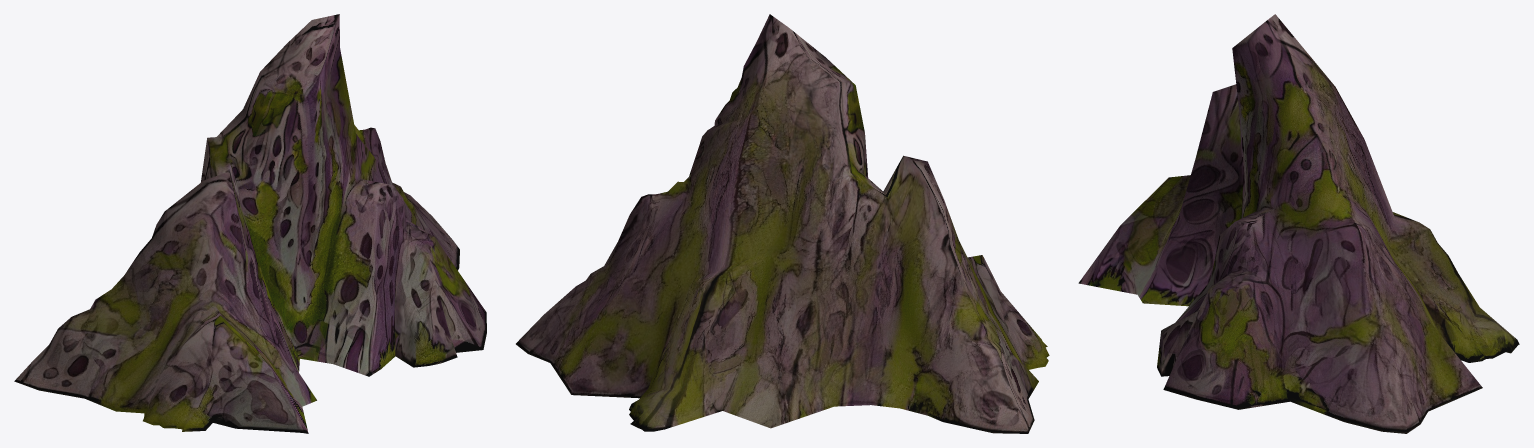
The model's file is Mountain02.glb.
3 renders of one model, left to right at view 1: azimuth 30°, elevation 25°; view 2: azimuth 150°, elevation 25°; view 3: azimuth 270°, elevation 25°, orthographic.
Visible parts, largest first — view 1: Mountain02; view 2: Mountain02; view 3: Mountain02.
Part boxes in pixels (x1,y1,x2,y2): Mountain02: (14, 14, 486, 433); Mountain02: (516, 14, 1049, 433); Mountain02: (1078, 14, 1519, 433).
Size of the model in its own units: 13.18 by 8.56 by 10.57.
1 material, 1 textured.
